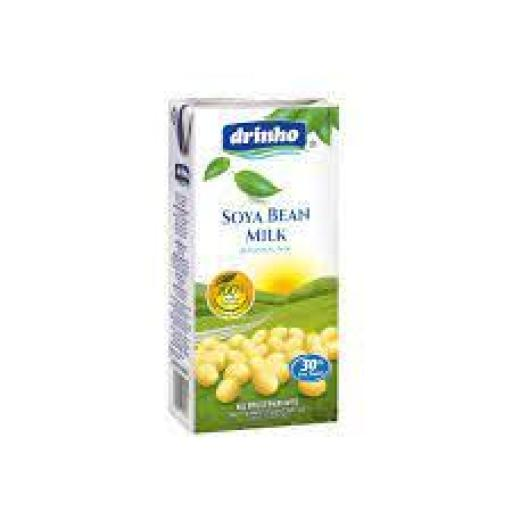drink carton: (170, 89, 344, 436)
